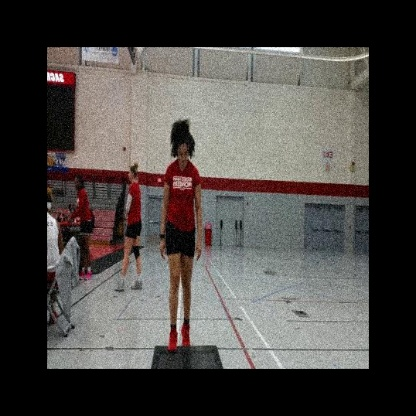lateral_flexion_normal: (158, 117, 205, 359)
stance_width_narrow: (159, 154, 206, 359)
